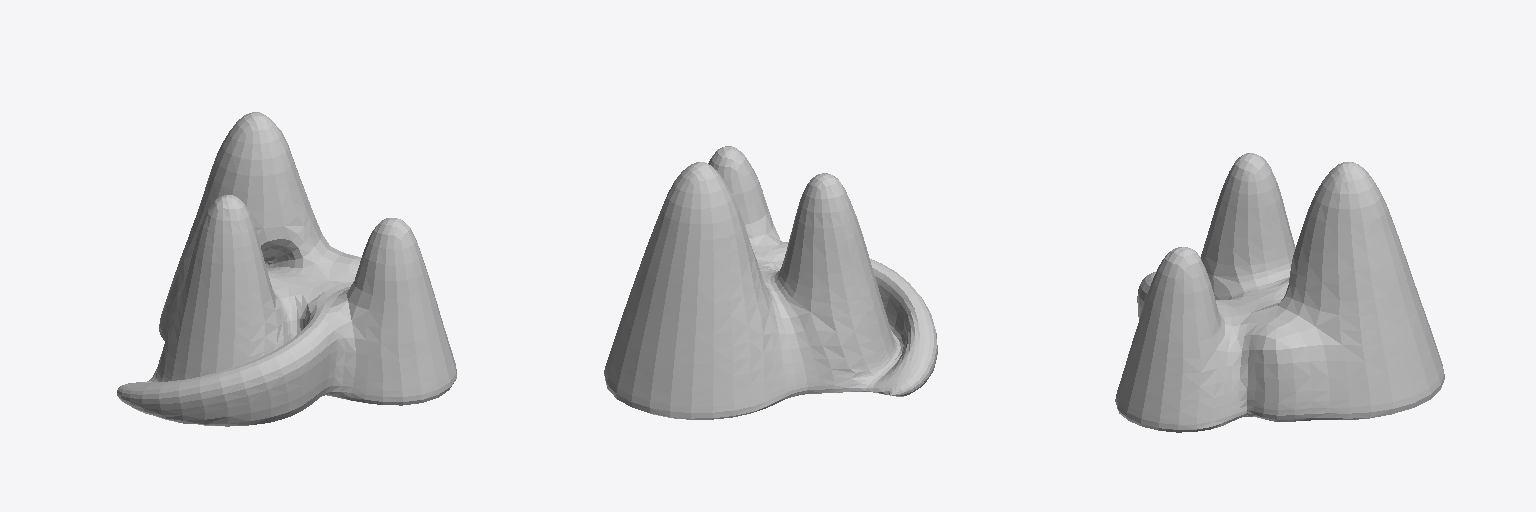
The model's file is MountainDenv3.obj.
3 views of the same model, side by side, from view 1: azimuth 30°, elevation 25°; view 2: azimuth 150°, elevation 25°; view 3: azimuth 270°, elevation 25° (orthographic).
Parts seen in each view (by area): view 1: PM3D_MountainDen; view 2: PM3D_MountainDen; view 3: PM3D_MountainDen.
Part boxes in pixels (x1,y1,x2,y2): PM3D_MountainDen: (117,112,456,426); PM3D_MountainDen: (604,146,937,419); PM3D_MountainDen: (1115,153,1444,432).
Size of the model in its own units: 565 by 411 by 561.